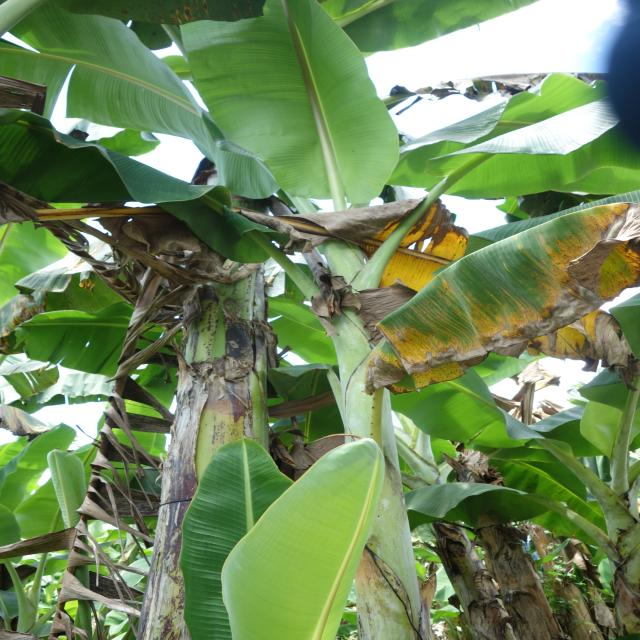Banana-plant: (144, 204, 266, 640), (299, 269, 442, 640)
